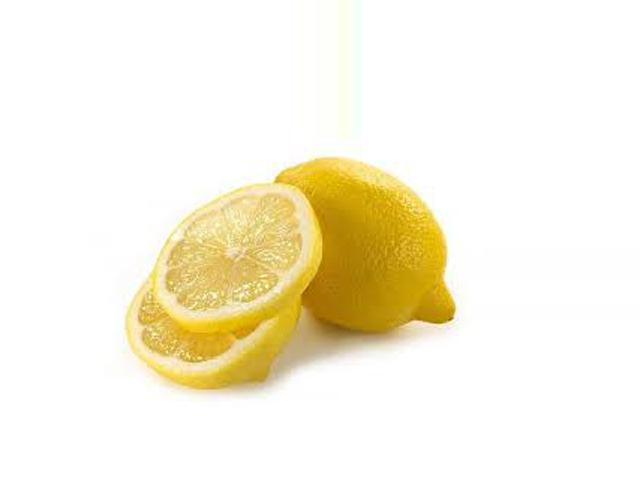lemon: (258, 153, 474, 345)
